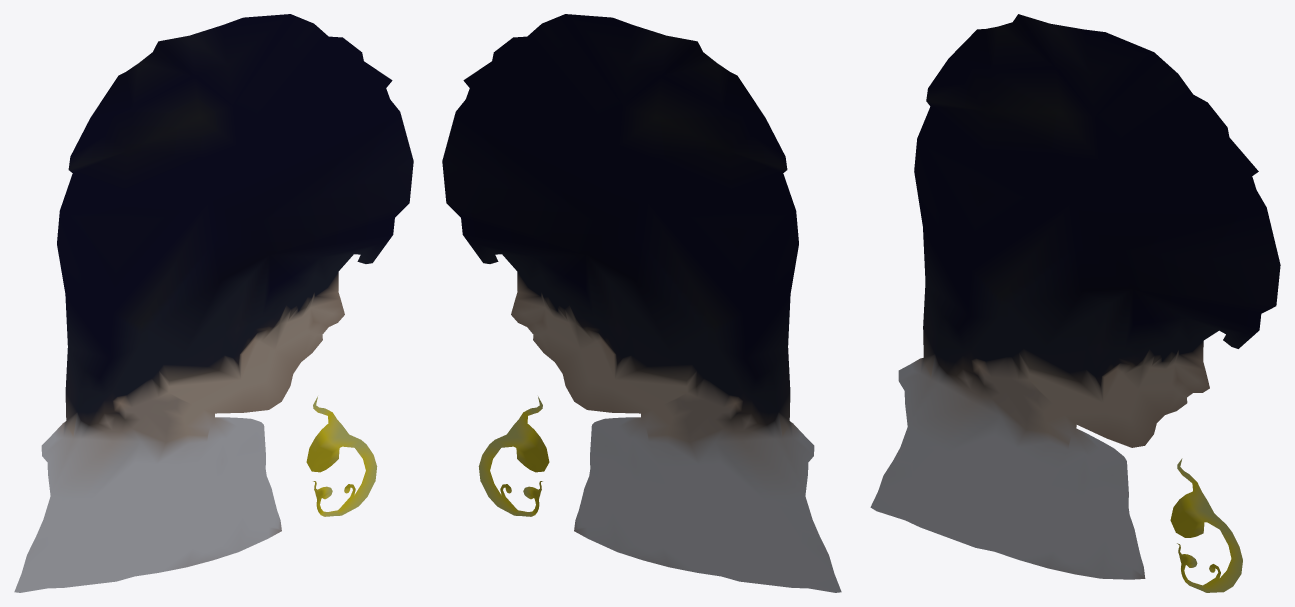
File: Abczezeze.glb
3 renders of one model, left to right at view 1: azimuth 30°, elevation 25°; view 2: azimuth 150°, elevation 25°; view 3: azimuth 330°, elevation 25°, orthographic. The views are drawn at different scales.
Parts seen in each view (by area): view 1: ObjAbczezeze; view 2: ObjAbczezeze; view 3: ObjAbczezeze.
Boxes of the visible parts, bbox=[...] form: ObjAbczezeze: bbox=[14, 14, 413, 592]; ObjAbczezeze: bbox=[442, 14, 841, 592]; ObjAbczezeze: bbox=[870, 14, 1280, 592].
Size of the model in its own units: 1.56 by 2 by 3.56e-07.
